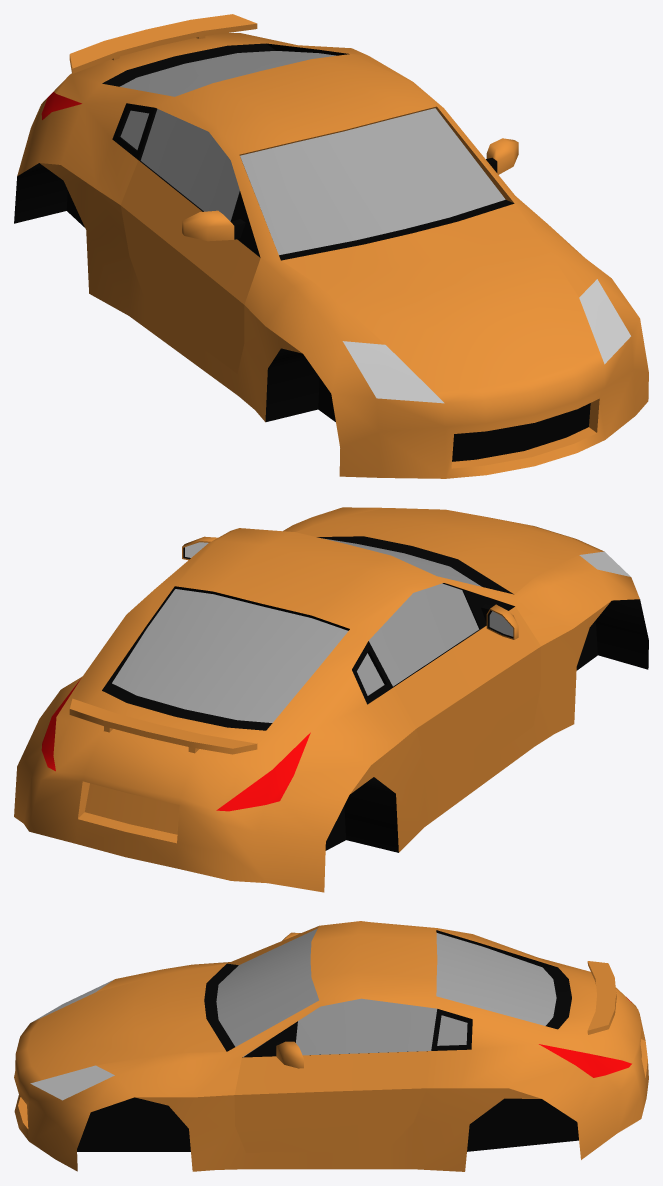
3 views of the same model, one above another, from view 1: azimuth 30°, elevation 25°; view 2: azimuth 150°, elevation 25°; view 3: azimuth 270°, elevation 25° (orthographic). The views are drawn at different scales.
Parts seen in each view (by area): view 1: 350; view 2: 350; view 3: 350.
Part boxes in pixels (x1,y1,x2,y2): 350: (14,14,648,478); 350: (14,507,648,892); 350: (14,921,648,1171).
Bounding box in the file's own units: 1.73 × 1.02 × 3.67.
Materials: 3 (1 with a texture image).
